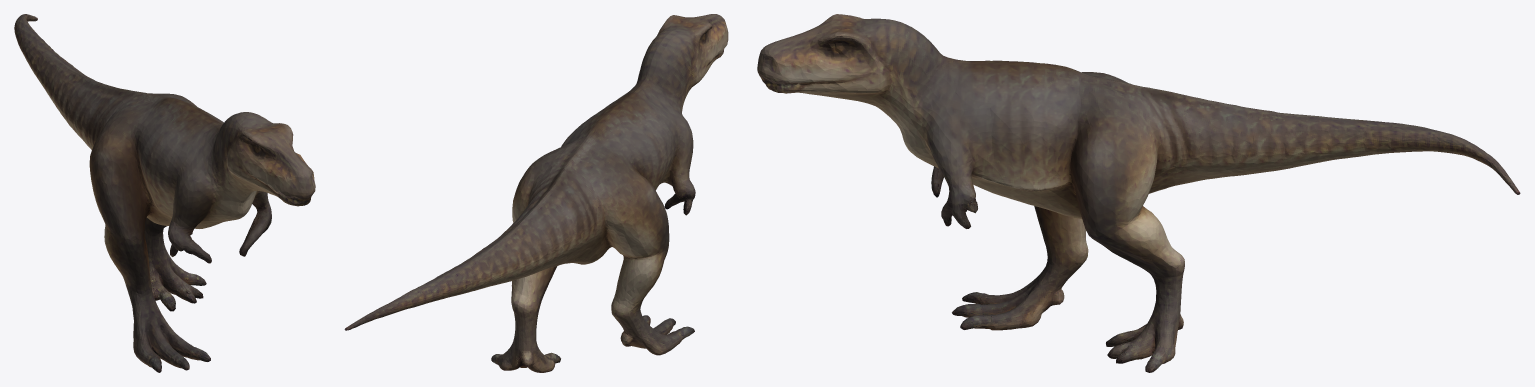
3 renders of one model, left to right at view 1: azimuth 30°, elevation 25°; view 2: azimuth 150°, elevation 25°; view 3: azimuth 270°, elevation 25°, orthographic. The views are drawn at different scales.
Visible parts, largest first — view 1: world; view 2: world; view 3: world.
Boxes of the visible parts, x1=… form: world: x1=14, y1=14, x2=315, y2=372; world: x1=344, y1=14, x2=728, y2=372; world: x1=757, y1=14, x2=1520, y2=372.
Bounding box in the file's own units: 2.1 × 3.89 × 8.5.
1 material, 1 textured.
